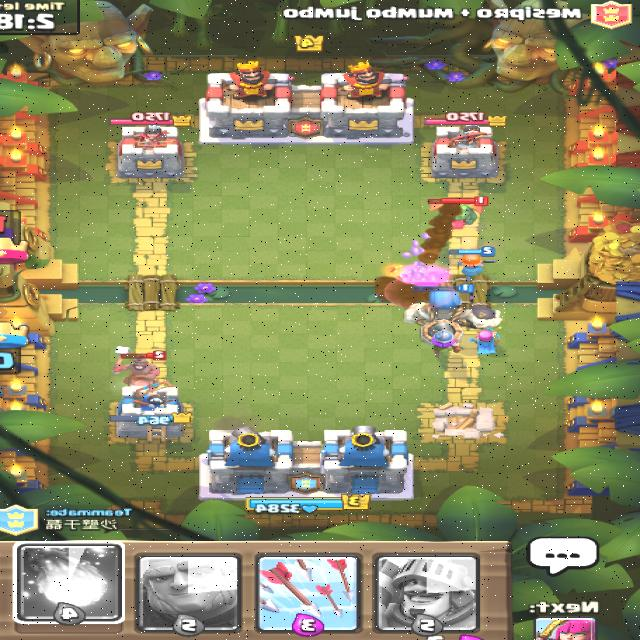Enemy-BabyDragon: (430, 195, 492, 229)
Enemy-HogRider: (112, 344, 170, 386)
Player-Archer: (470, 324, 505, 354)
Player-GiantSkeleton: (403, 282, 504, 328)
Player-Musketeer: (432, 322, 465, 358)
Player-Valkyrie: (449, 246, 501, 282)
